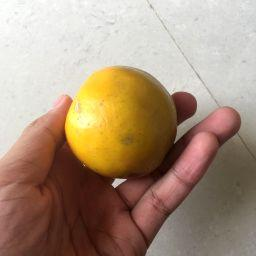Ripe: (68, 69, 177, 172)
